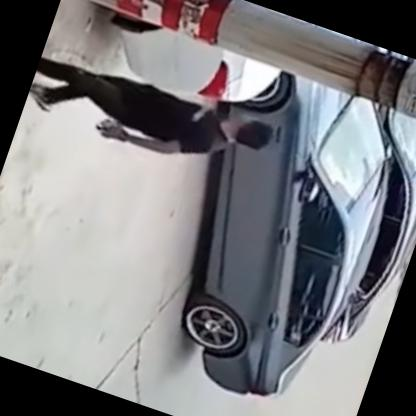Human Body: (21, 31, 280, 192)
